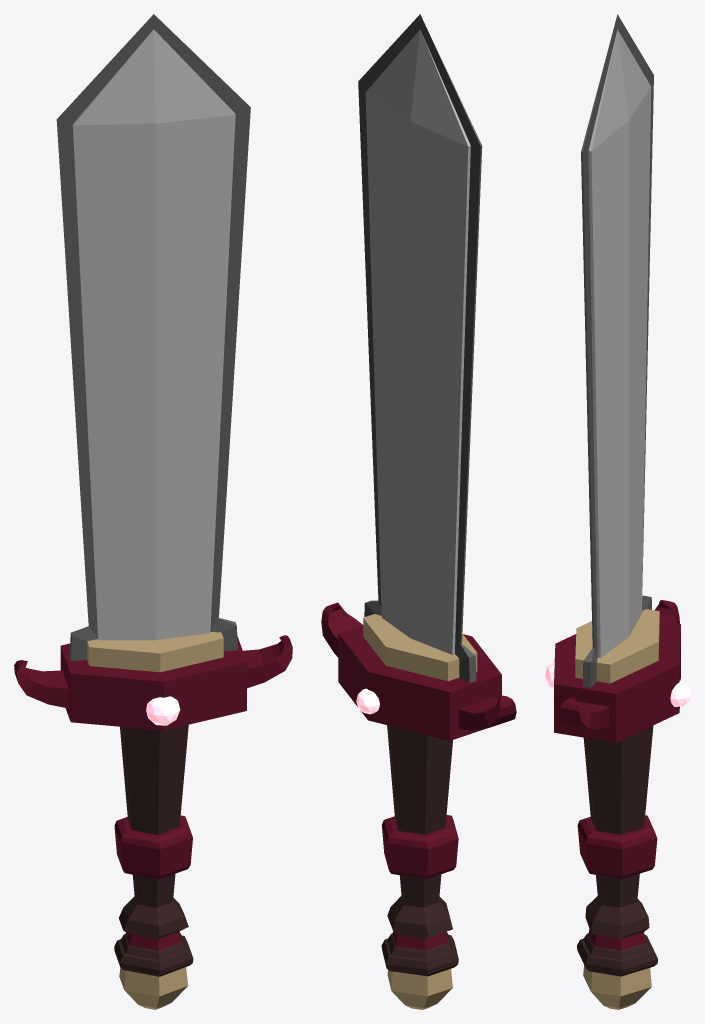
File: low_poly_sword.glb
The picture shows the model from 3 angles, left to right: view 1: azimuth 30°, elevation 25°; view 2: azimuth 150°, elevation 25°; view 3: azimuth 270°, elevation 25°; orthographic projection.
Parts seen in each view (by area): view 1: Cylinder; view 2: Cylinder; view 3: Cylinder.
Boxes of the visible parts, x1=… form: Cylinder: x1=14, y1=14, x2=292, y2=1009; Cylinder: x1=321, y1=14, x2=516, y2=1009; Cylinder: x1=545, y1=14, x2=690, y2=1009.
Bounding box in the file's own units: 4.03 × 16.39 × 2.18.
